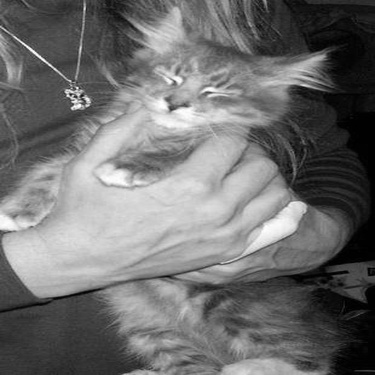cat: (7, 4, 350, 373)
